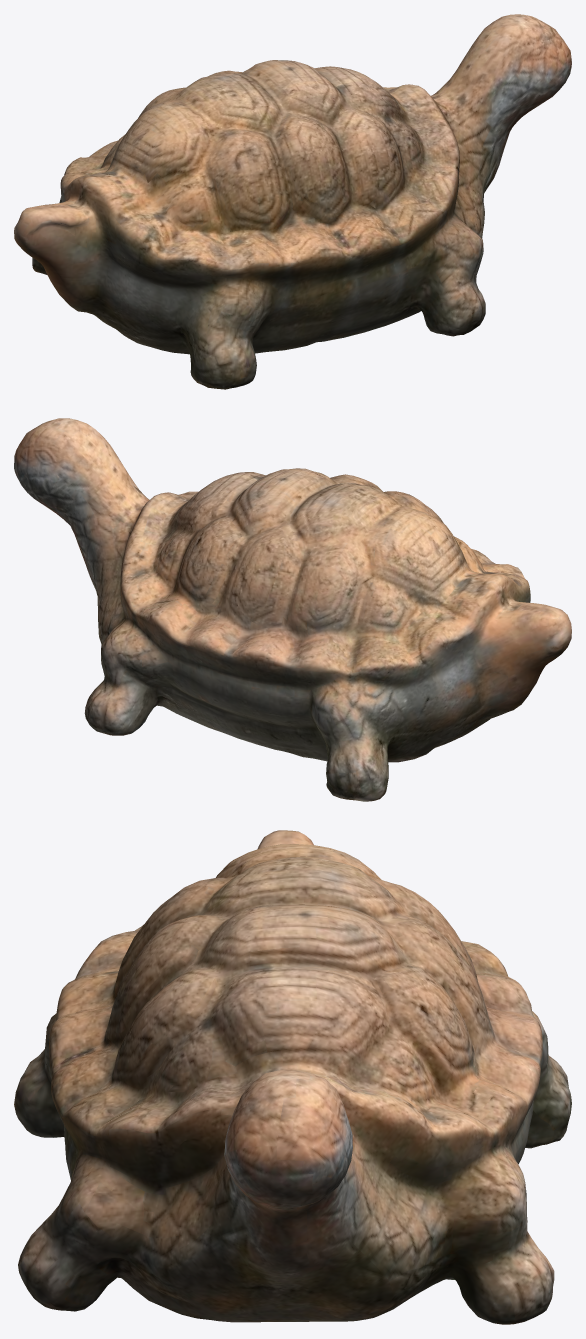
Rendered from turtle_garden_statue_841a39dd.glb.
3 renders of one model, top to bottom at view 1: azimuth 30°, elevation 25°; view 2: azimuth 150°, elevation 25°; view 3: azimuth 270°, elevation 25°, orthographic. The views are drawn at different scales.
Visible parts, largest first — view 1: turtle_garden_statue_841a39dd; view 2: turtle_garden_statue_841a39dd; view 3: turtle_garden_statue_841a39dd.
Boxes of the visible parts, x1,y1,x2,y2 form: turtle_garden_statue_841a39dd: (14, 14, 571, 389); turtle_garden_statue_841a39dd: (14, 418, 571, 801); turtle_garden_statue_841a39dd: (14, 830, 571, 1324).
Size of the model in its own units: 0.5546 by 0.2149 by 0.3311.
1 material, 1 textured.
